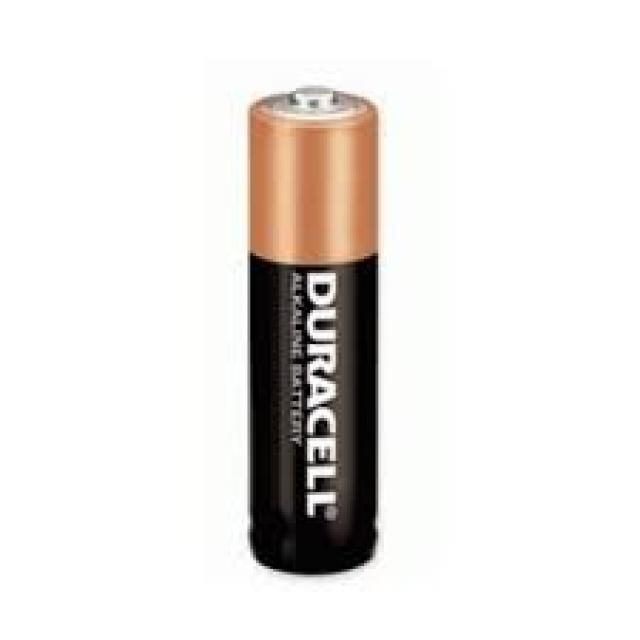battery: (249, 84, 380, 576)
